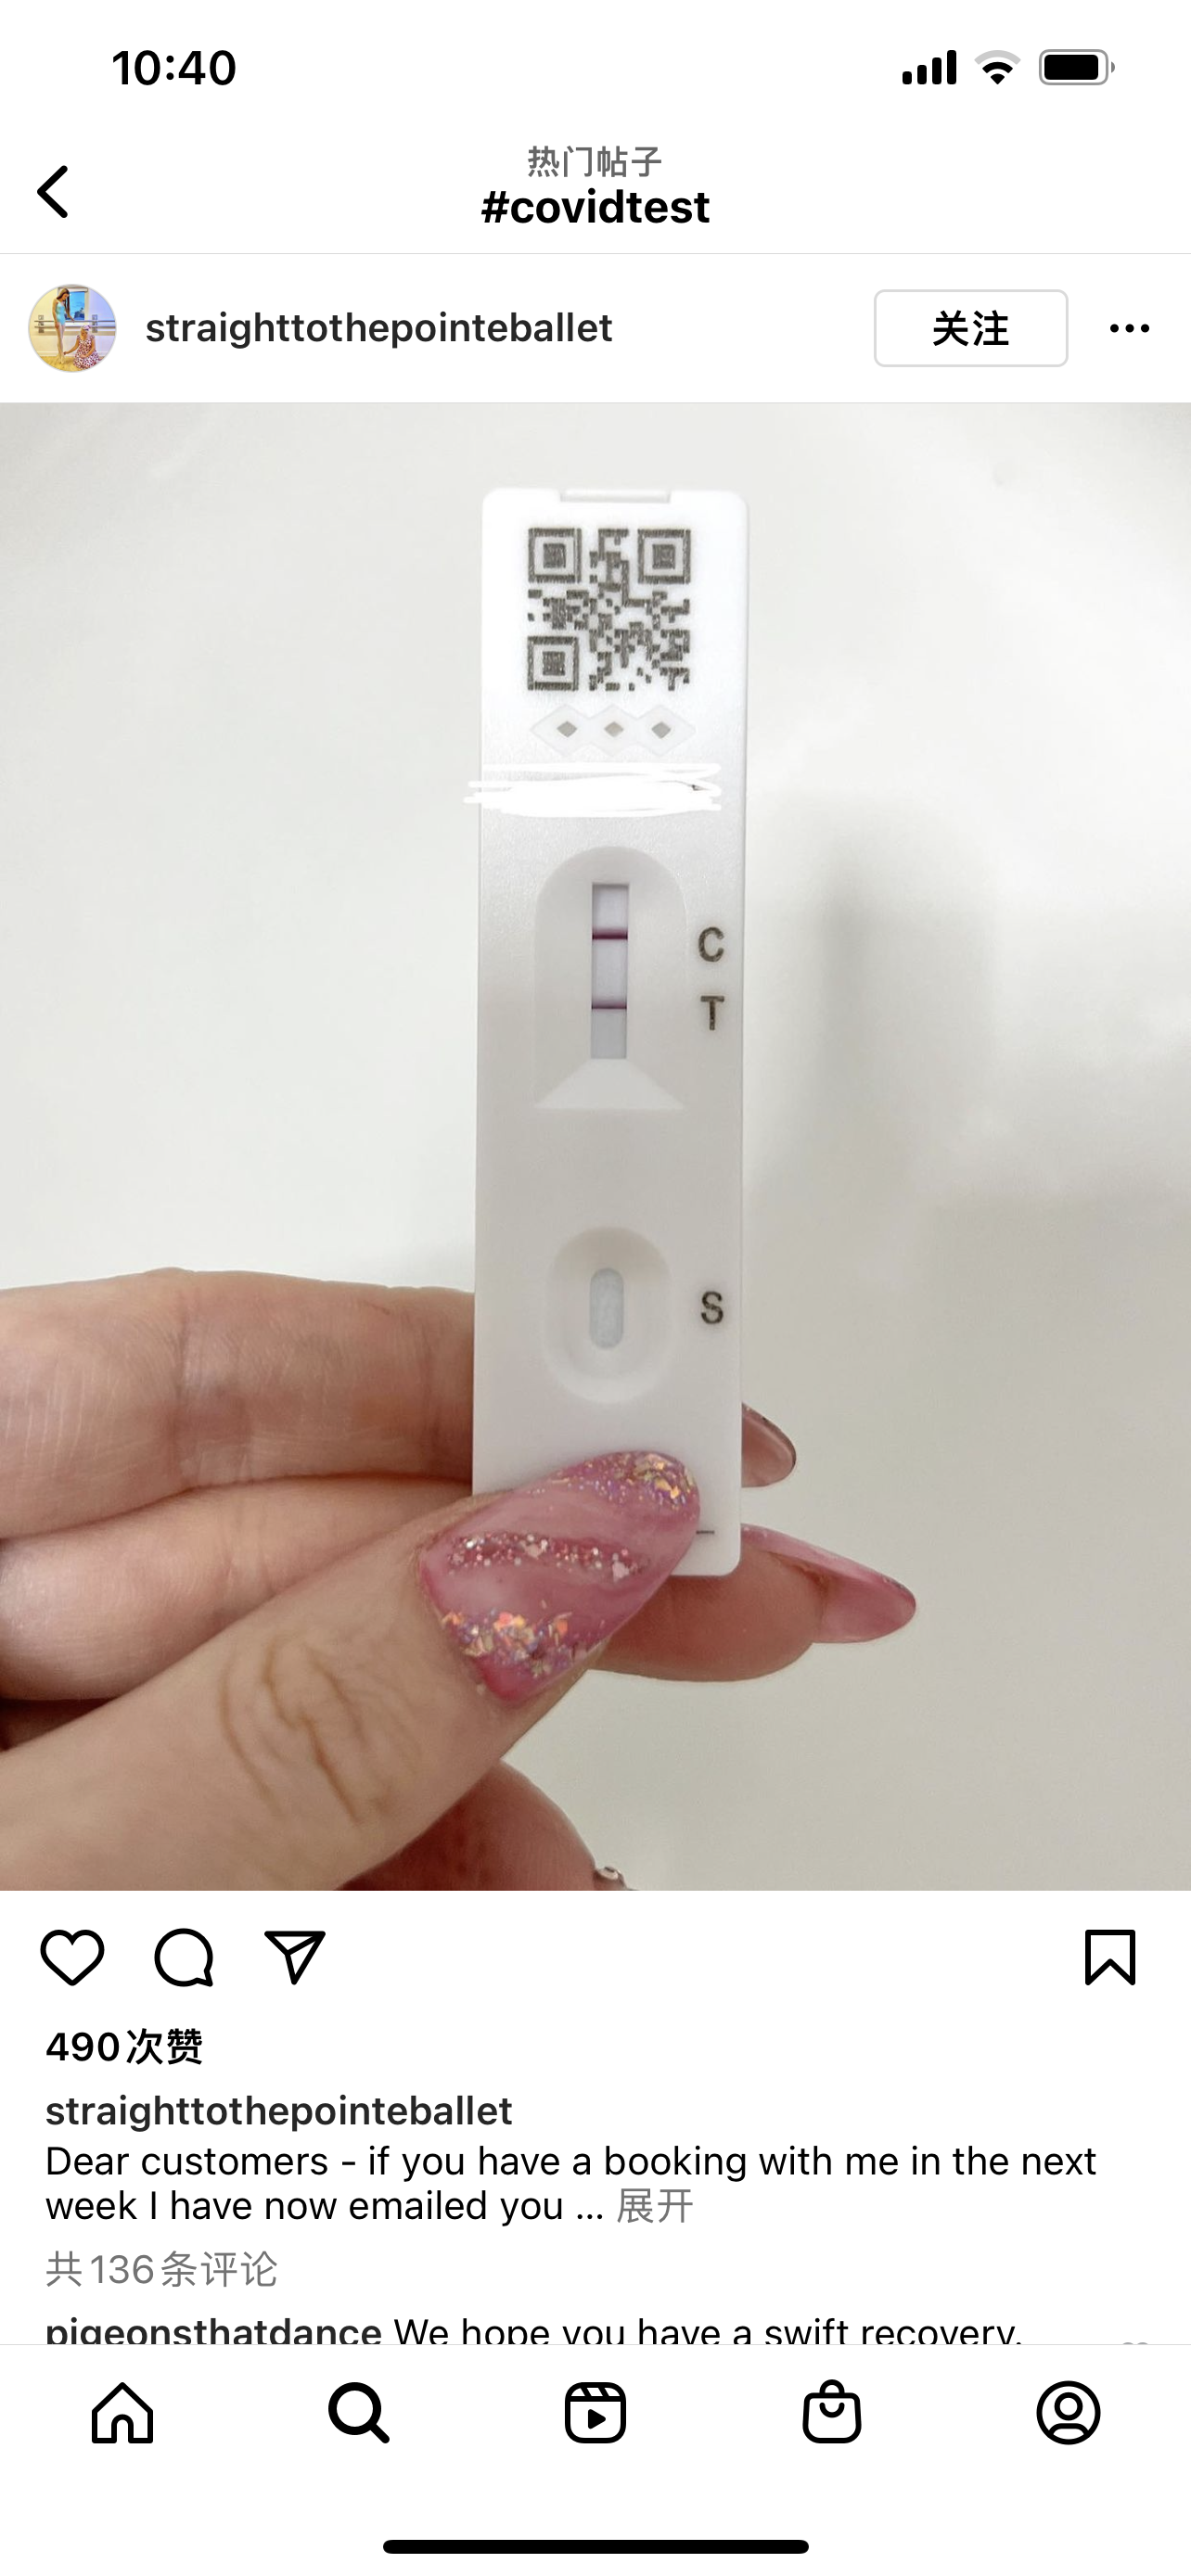positive: (554, 854, 692, 1119)
